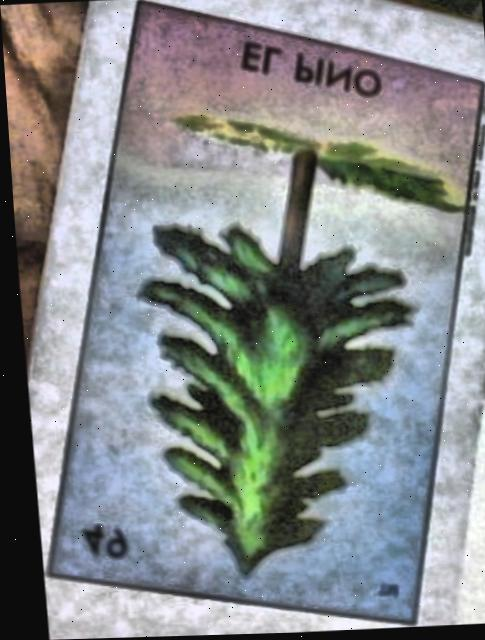El Pino: (38, 2, 482, 626)
